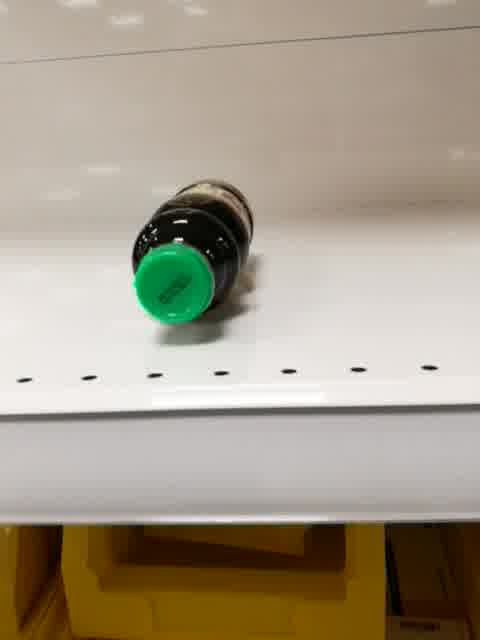cookingoil: (129, 176, 257, 326)
